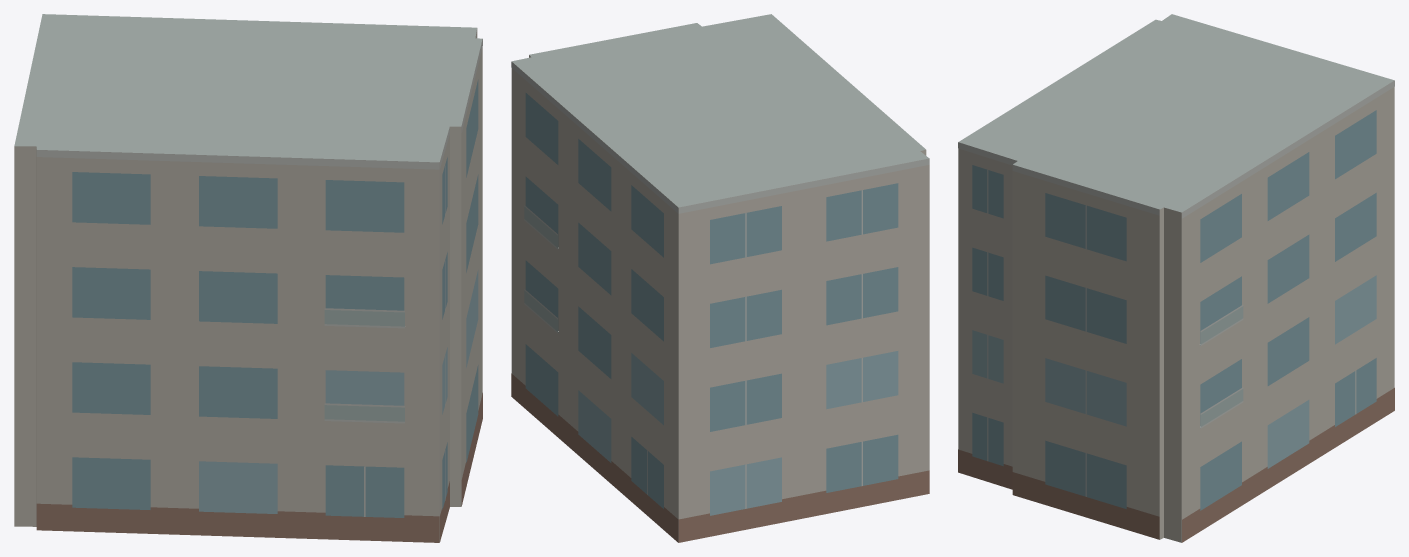
The model's file is survey-upis-32885158.glb.
The picture shows the model from 3 angles, left to right: view 1: azimuth 30°, elevation 25°; view 2: azimuth 150°, elevation 25°; view 3: azimuth 270°, elevation 25°; orthographic projection. The views are drawn at different scales.
Parts seen in each view (by area): view 1: survey-upis-32885158.tmp; view 2: survey-upis-32885158.tmp; view 3: survey-upis-32885158.tmp.
Part boxes in pixels (x1,y1,x2,y2): survey-upis-32885158.tmp: [14, 14, 482, 542]; survey-upis-32885158.tmp: [511, 14, 929, 542]; survey-upis-32885158.tmp: [958, 14, 1394, 542].
Bounding box in the file's own units: 16.64 × 12.9 × 15.46.
